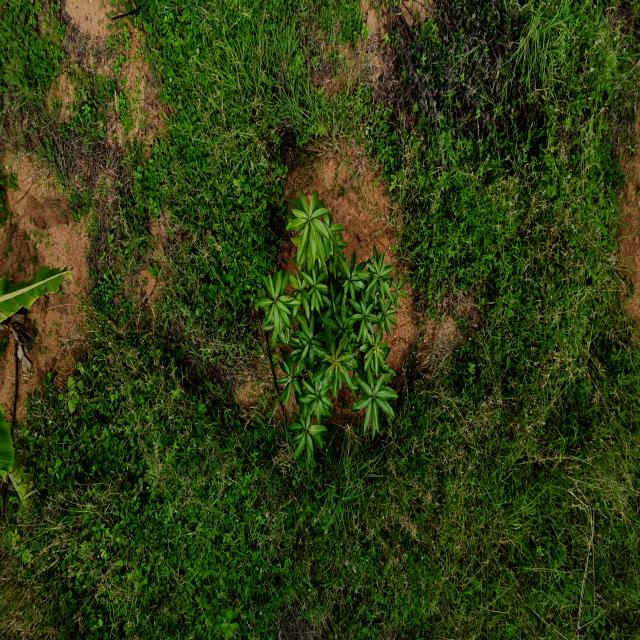mangoTree: (255, 182, 408, 474)
notMangoTree: (0, 266, 74, 510)
